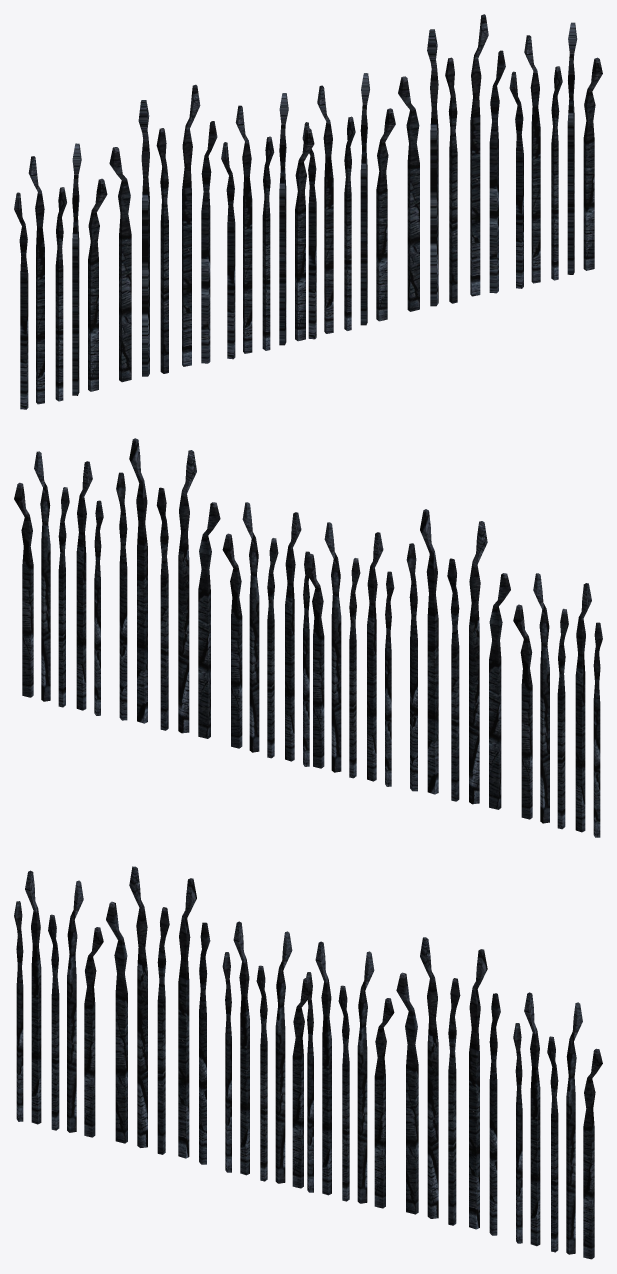
The model's file is WALL_01-13.fbx.
3 views of the same model, one above another, from view 1: azimuth 30°, elevation 25°; view 2: azimuth 150°, elevation 25°; view 3: azimuth 330°, elevation 25° (orthographic).
Visible parts, largest first — view 1: wall_01_5, wall_01_3, wall_01_2, wall_01, wall_01_1, wall_01_4; view 2: wall_01_5, wall_01_3, wall_01_1, wall_01_4, wall_01, wall_01_2; view 3: wall_01_5, wall_01_3, wall_01_1, wall_01_4, wall_01_2, wall_01.
Part boxes in pixels (<box>): wall_01_5: <box>398,14,505,311</box>; wall_01_3: <box>109,84,217,382</box>; wall_01_2: <box>221,93,314,359</box>; wall_01: <box>302,73,395,339</box>; wall_01_1: <box>14,143,107,409</box>; wall_01_4: <box>509,22,602,288</box>; wall_01_5: <box>116,438,220,738</box>; wall_01_3: <box>406,509,510,809</box>; wall_01_1: <box>513,573,602,837</box>; wall_01_4: <box>14,451,103,715</box>; wall_01: <box>222,502,312,766</box>; wall_01_2: <box>309,522,394,786</box>; wall_01_5: <box>396,937,500,1235</box>; wall_01_3: <box>106,866,210,1164</box>; wall_01_1: <box>14,870,103,1137</box>; wall_01_4: <box>513,992,602,1259</box>; wall_01_2: <box>222,921,312,1188</box>; wall_01: <box>306,941,394,1208</box>.
Bounding box in the file's own units: 1036 × 477 × 31.67.
Materials: 1 (1 with a texture image).
